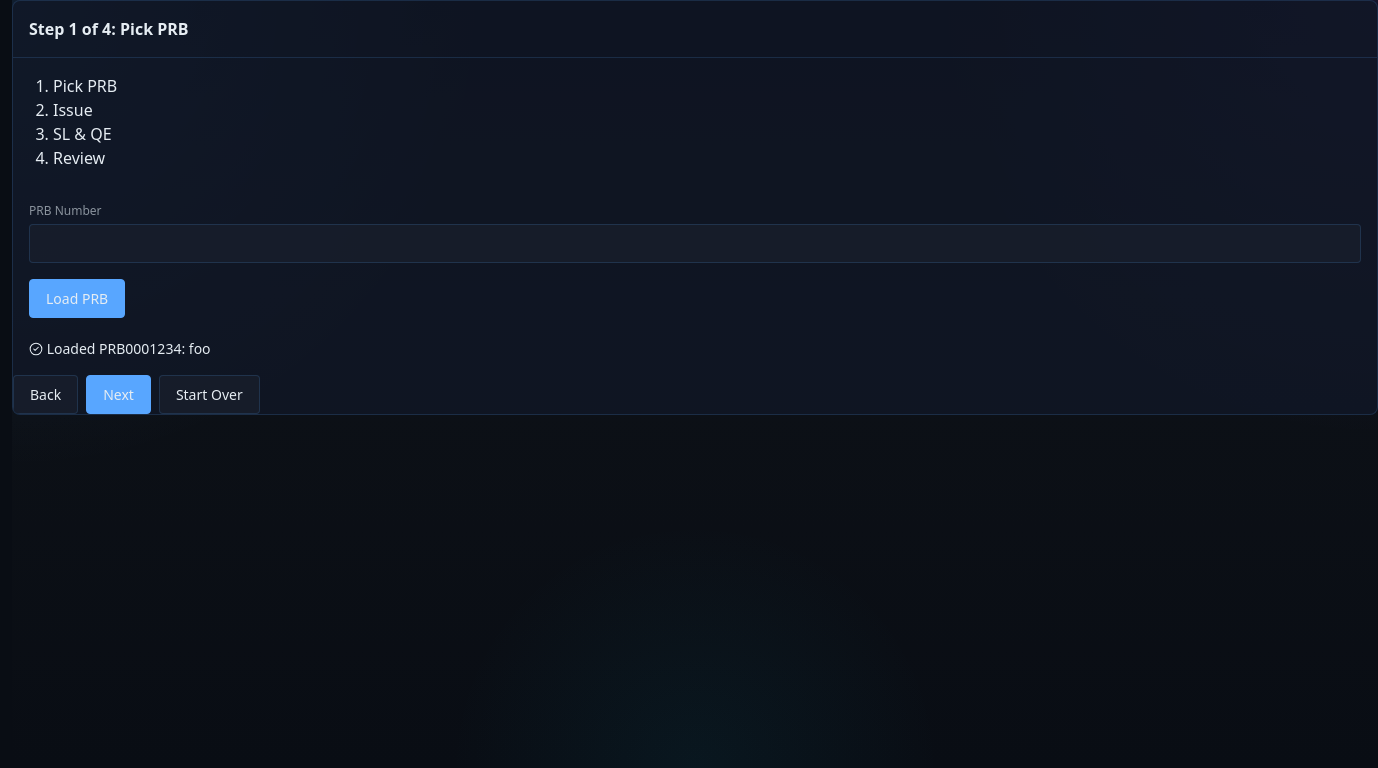
Test: PrbWizard › advances to step two when a PRB is loaded and Next is clicked
Click the button "Next" at coordinates (119, 394), box x1=86 y1=375 x2=151 y2=414
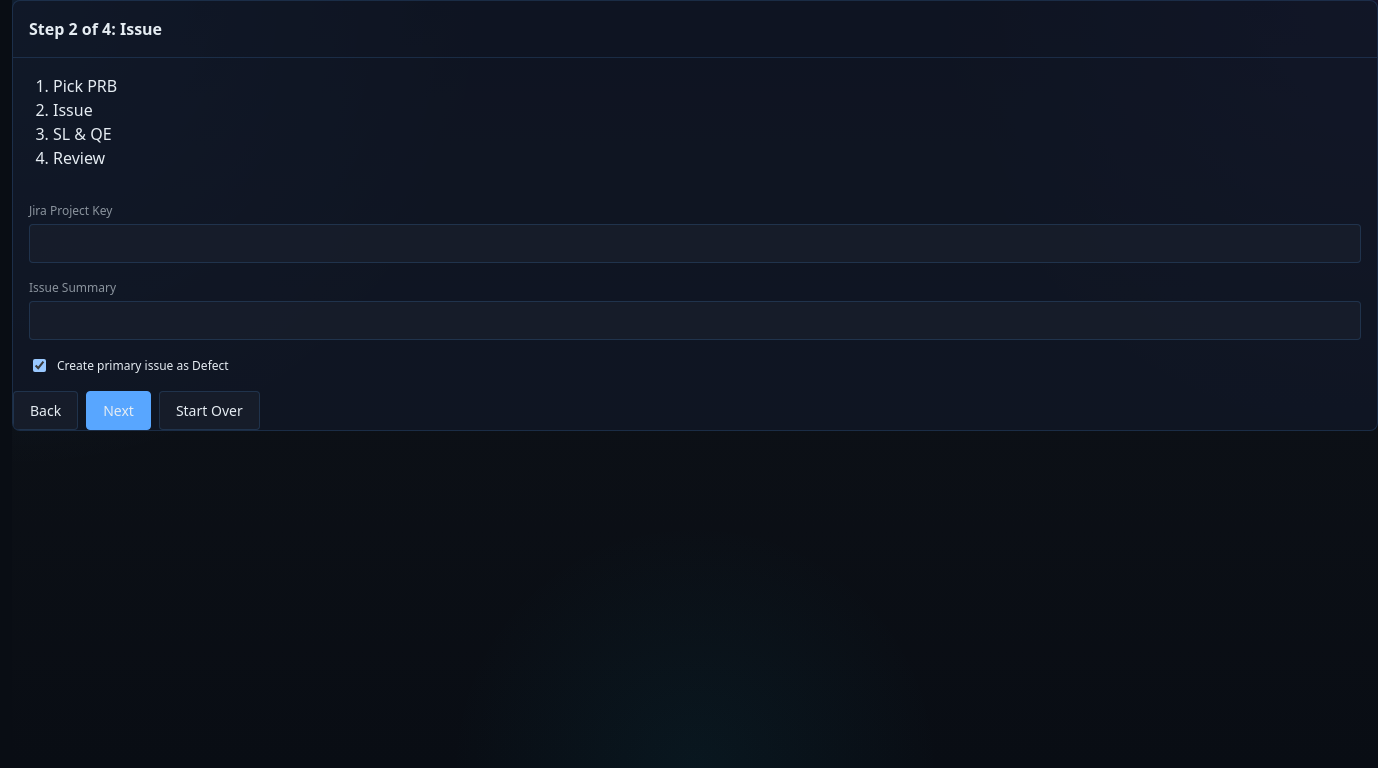
Now the heading "Step 2 of 4: Issue" is shown, box x1=29 y1=18 x2=162 y2=40
